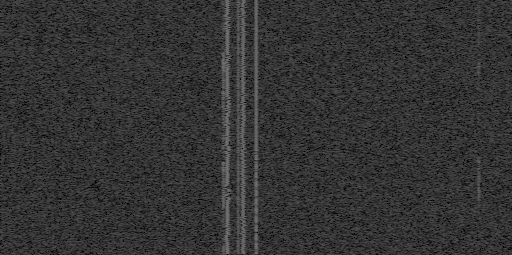wv_am: (253, 0, 259, 254)
wv_cw: (236, 0, 241, 254)
wv_lsb: (220, 51, 226, 158), (220, 159, 226, 254), (221, 1, 226, 50)
wv_usb: (236, 28, 241, 88), (476, 153, 481, 210), (236, 197, 241, 254), (236, 140, 241, 193), (476, 53, 482, 86), (476, 17, 481, 52), (236, 114, 241, 139), (236, 89, 241, 113), (236, 1, 241, 25), (477, 94, 481, 113), (476, 1, 481, 16), (477, 127, 481, 136), (477, 117, 481, 126), (477, 87, 481, 93), (477, 236, 480, 242), (477, 224, 480, 228), (477, 214, 481, 217), (477, 251, 481, 254), (477, 231, 480, 235), (477, 218, 480, 221)
wv_wbfm: (222, 0, 233, 254), (238, 0, 248, 254)
